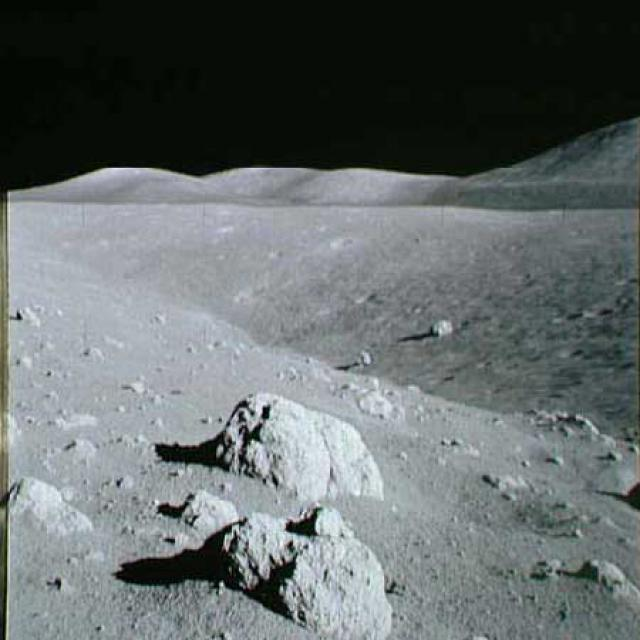crater: (416, 459, 580, 542)
rock: (207, 504, 397, 638), (206, 387, 407, 501), (3, 471, 100, 545), (527, 402, 618, 444), (580, 556, 639, 616), (179, 484, 239, 535), (467, 468, 535, 505), (355, 380, 402, 430), (8, 300, 48, 332), (424, 314, 458, 345)
